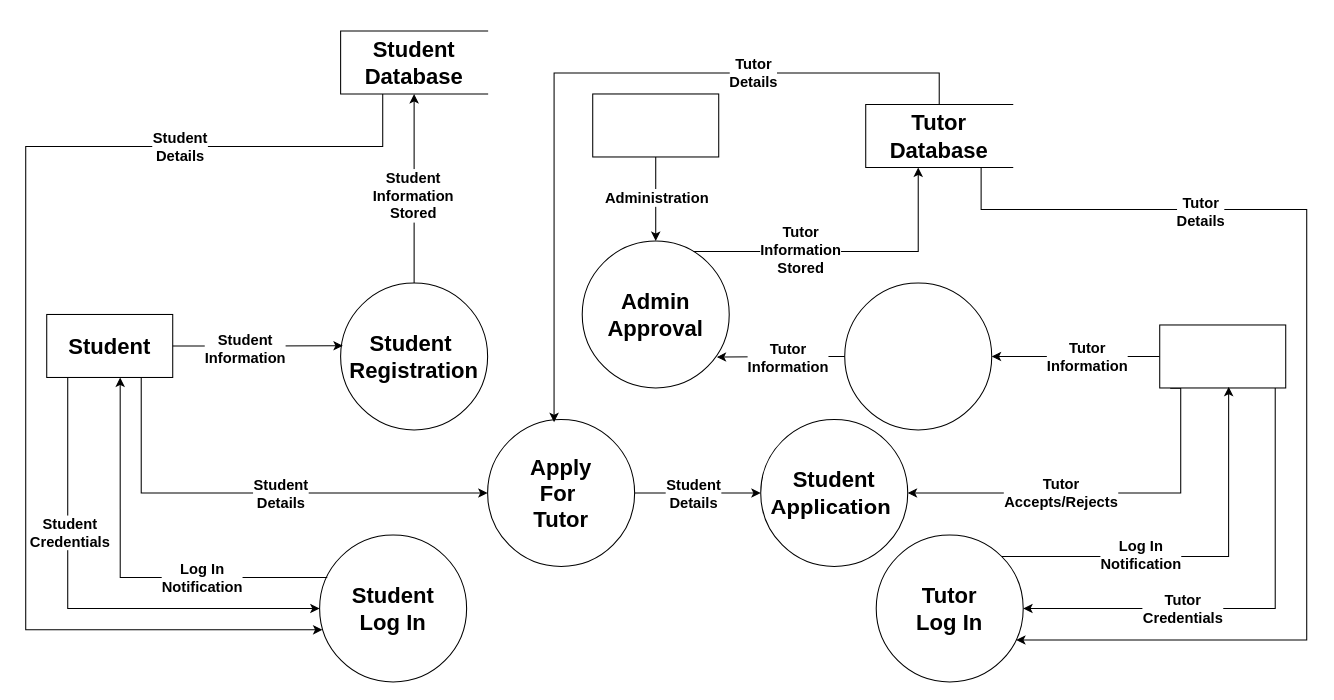
Image size: 1334x700. Some labels were removed from this diagram. Here are the shapes that lost their labels. From the top down, the centre of each, then its label:
At [655,125]: "Admin".
At [918,356]: "Tutor Registration".
At [1222,356]: "Tutor".
